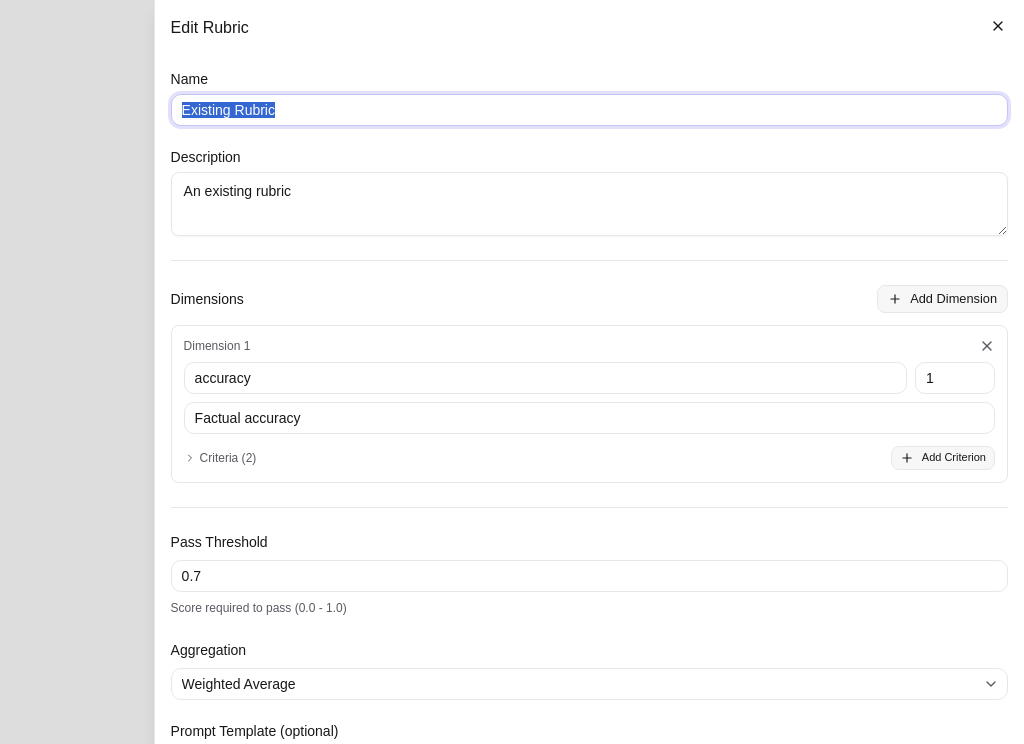
Test: RubricBuilder › can remove a criterion
This screenshot has width=1024, height=744.
Expand criteria section
Click the button "Criteria (2)". click: (220, 458)
box: [184,450,256,466]
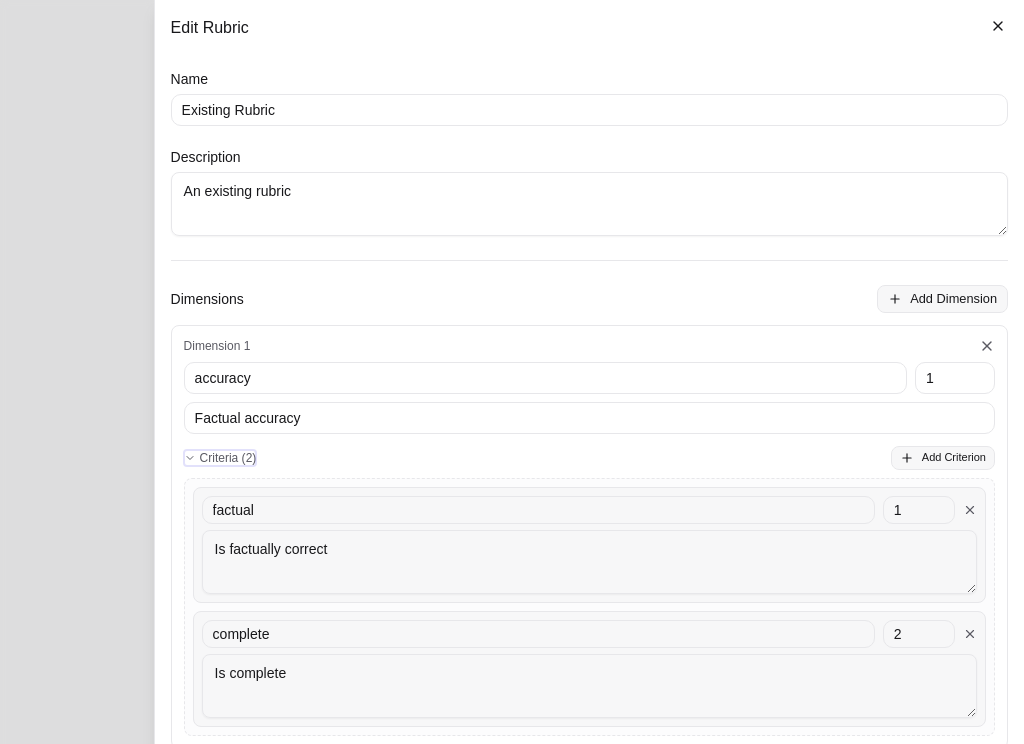
Remove the first criterion
Click the button named "remove criterion 1". click: (970, 510)
box: [963,503,977,517]
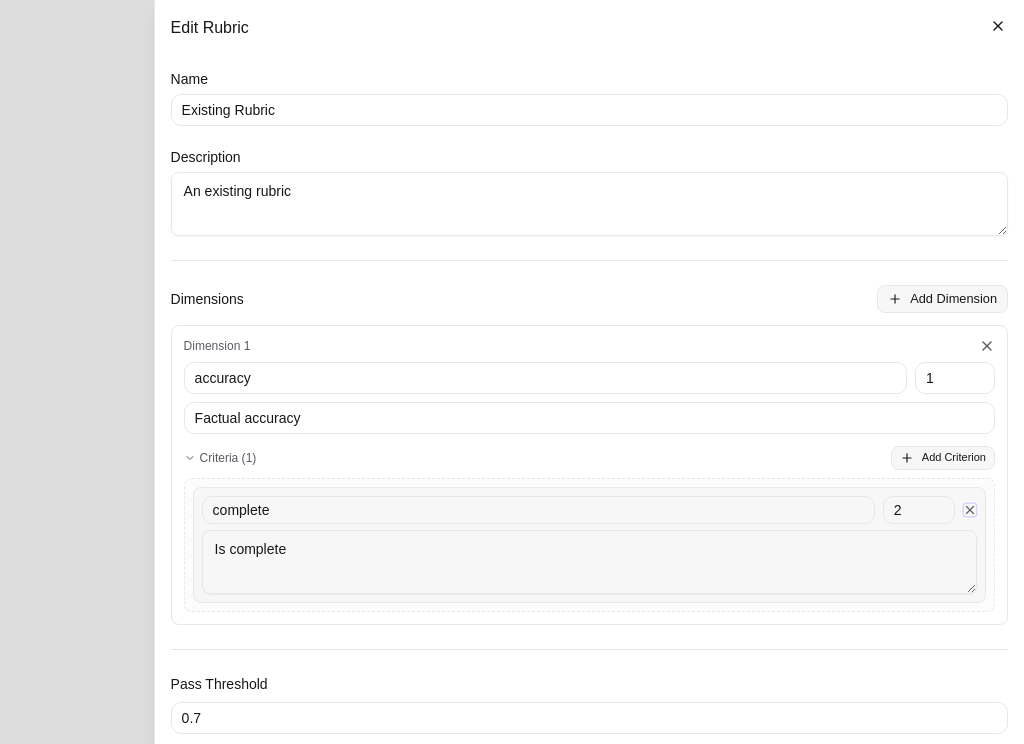
Expected: the button "Criteria (1)" is shown, [184,450,256,466]
Expected: the 3rd field showing "complete" is shown, [202,496,875,524]
